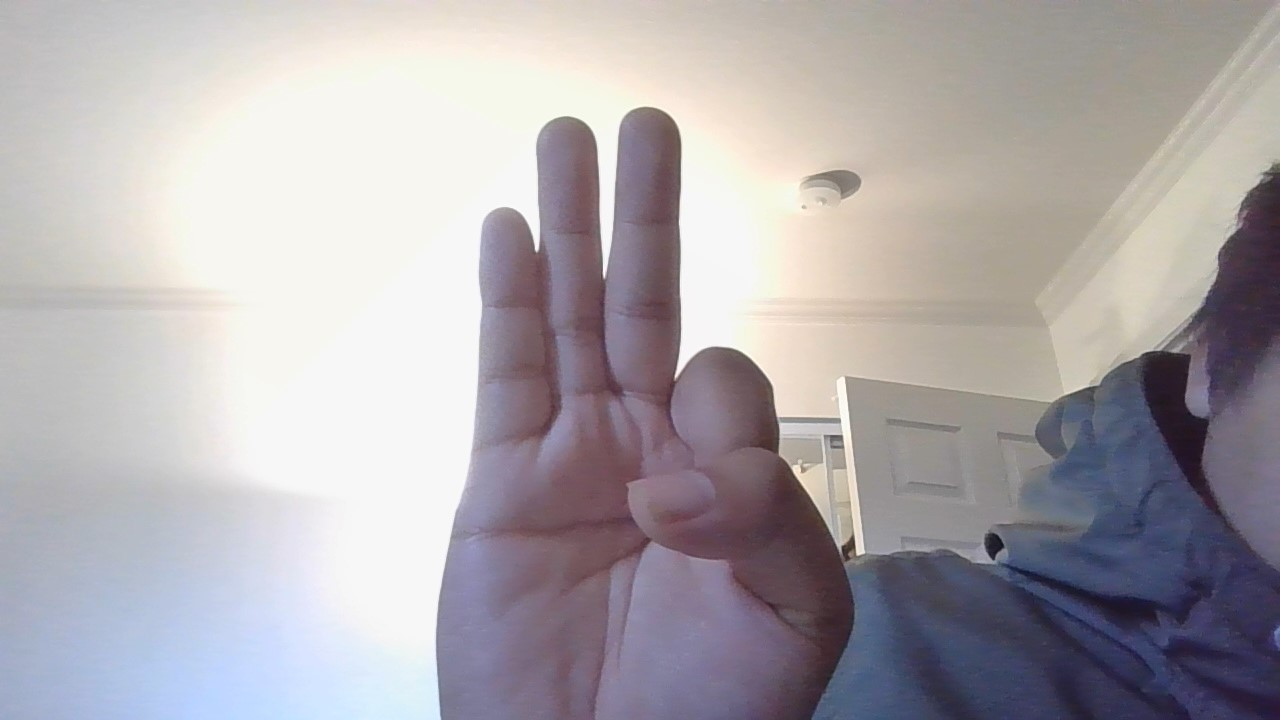f: (391, 91, 889, 720)
